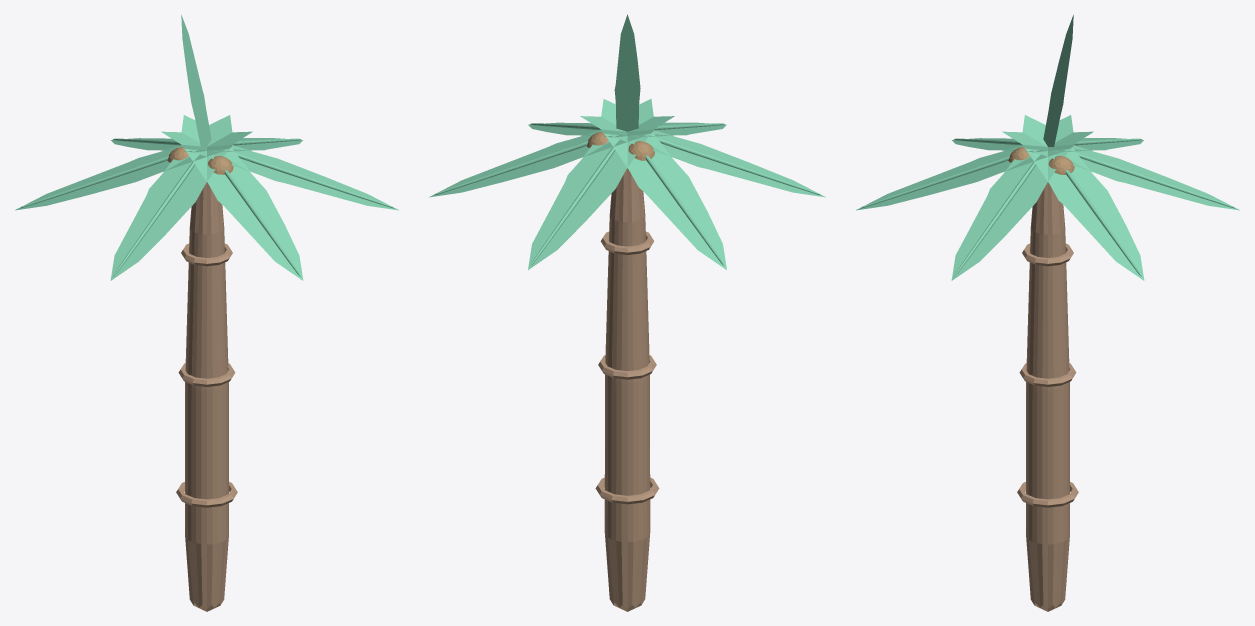
File: palmeira.glb
3 renders of one model, left to right at view 1: azimuth 30°, elevation 25°; view 2: azimuth 150°, elevation 25°; view 3: azimuth 270°, elevation 25°, orthographic. The views are drawn at different scales.
Parts seen in each view (by area): view 1: Palmeira; view 2: Palmeira; view 3: Palmeira.
Part boxes in pixels (bbox=[...]): Palmeira: bbox=[15, 15, 398, 611]; Palmeira: bbox=[429, 14, 825, 611]; Palmeira: bbox=[856, 15, 1239, 611].
Bounding box in the file's own units: 1.77 × 3.46 × 2.05.
